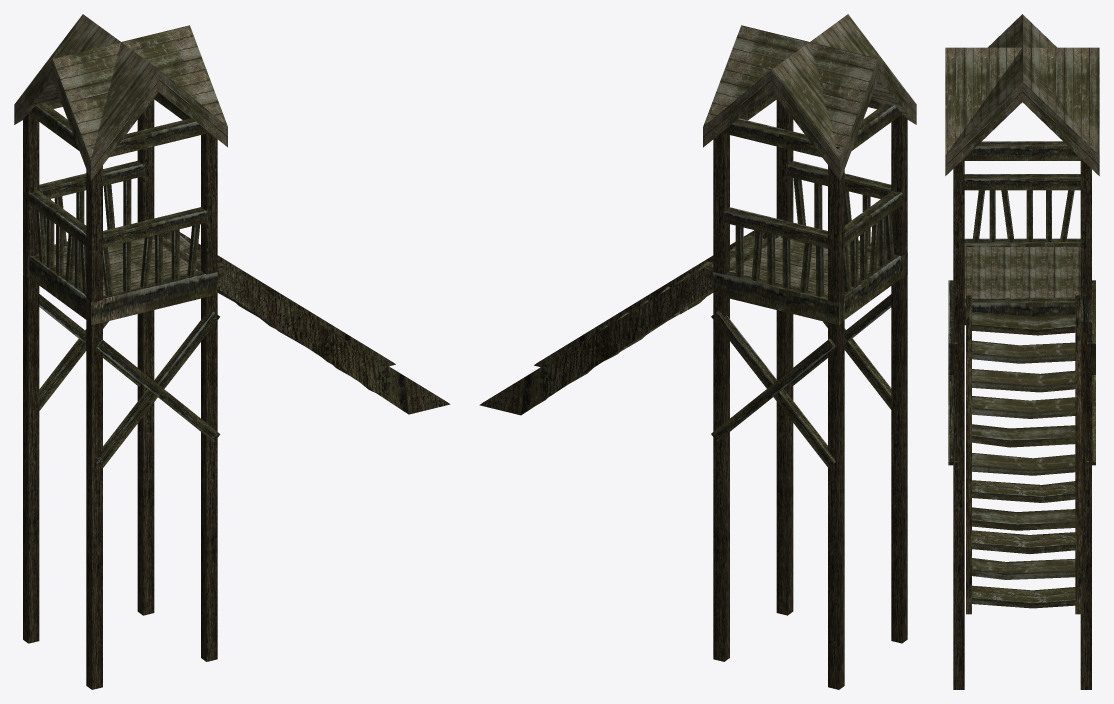
The model's file is wieza.glb.
3 renders of one model, left to right at view 1: azimuth 30°, elevation 25°; view 2: azimuth 150°, elevation 25°; view 3: azimuth 270°, elevation 25°, orthographic.
Parts seen in each view (by area): view 1: zengin; view 2: zengin; view 3: zengin.
Part boxes in pixels (box(x1,y1,x2,y2)): zengin: box(14, 14, 450, 689); zengin: box(479, 14, 916, 689); zengin: box(945, 14, 1099, 689).
Size of the model in its own units: 5.9 by 9.25 by 2.11.
4 materials, 4 textured.
